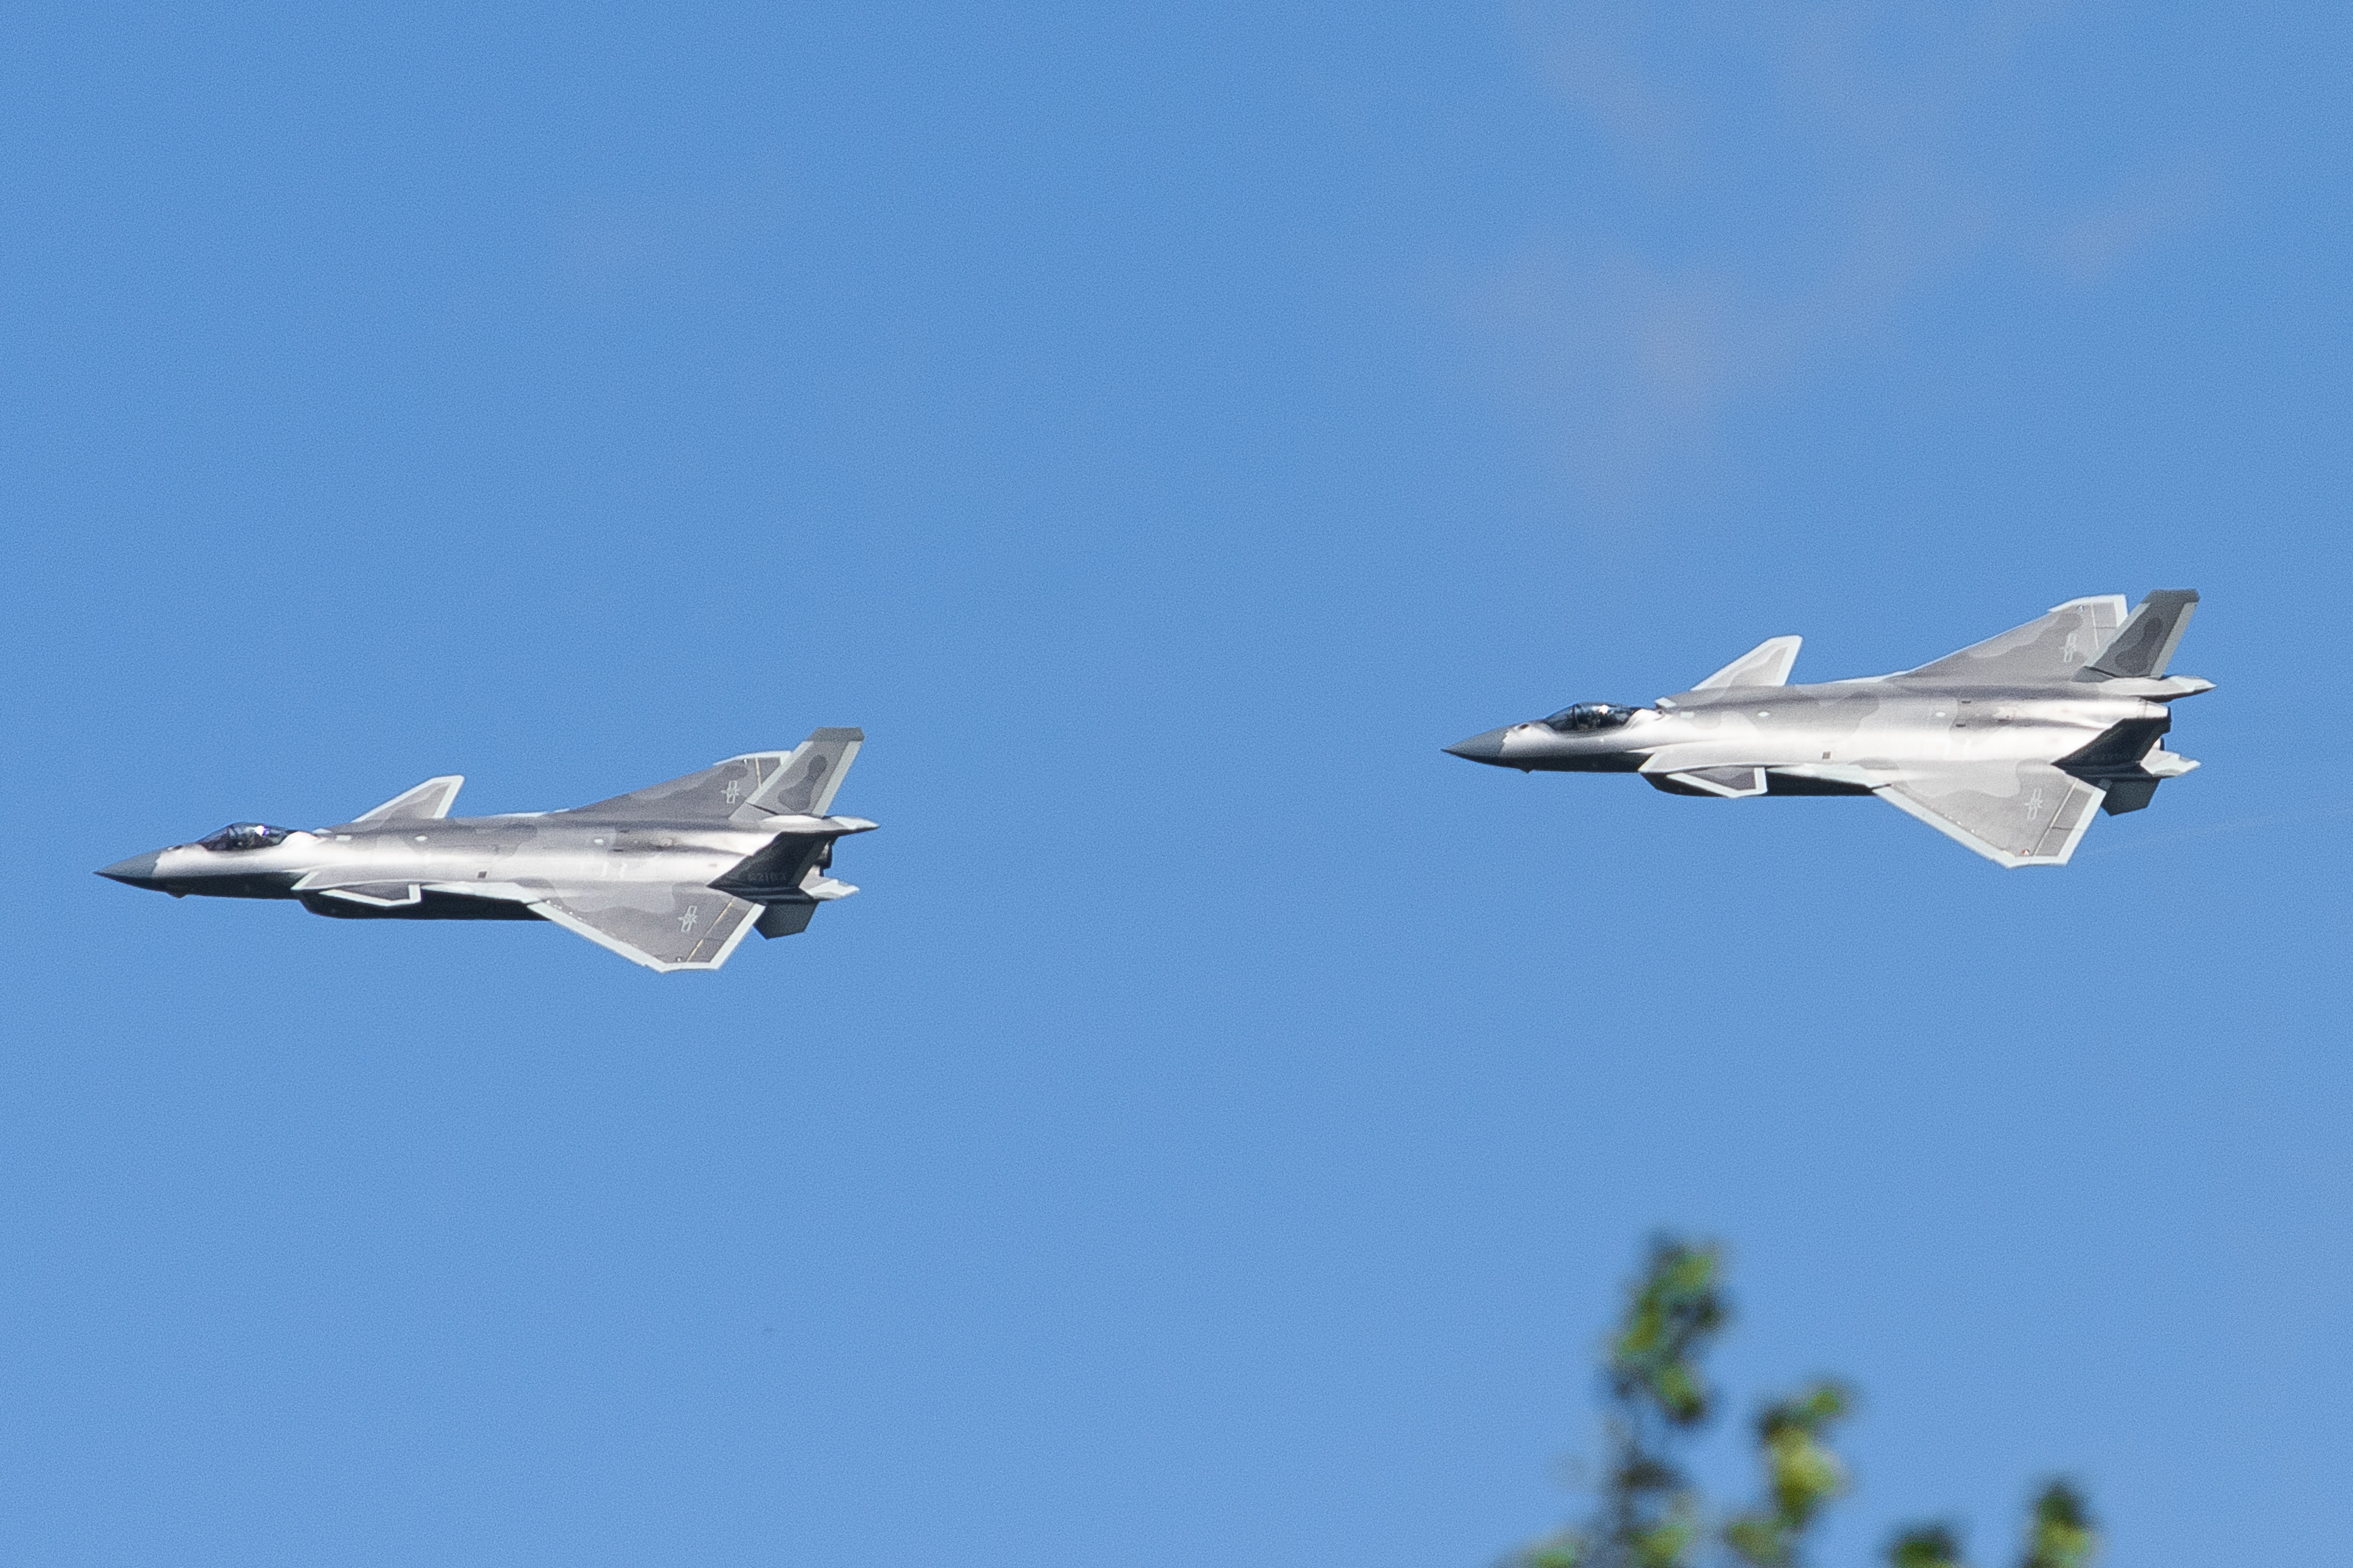J20: (1441, 588, 2218, 870), (91, 725, 881, 975)
